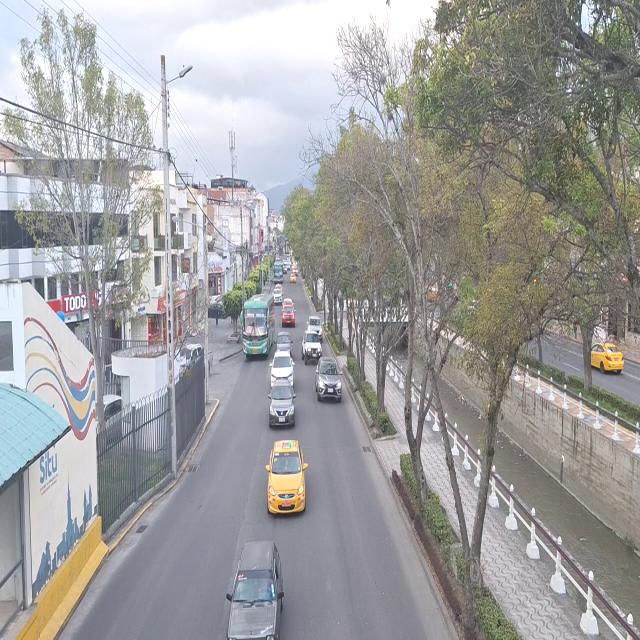BUS: (242, 296, 273, 355), (274, 262, 283, 284)
